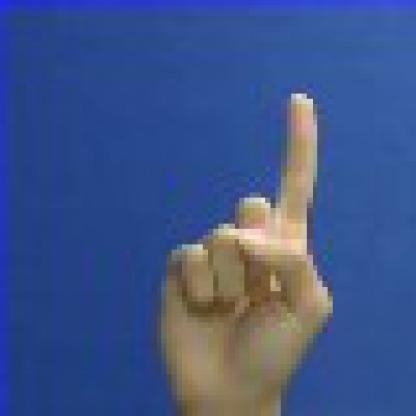one: (142, 81, 339, 416)
